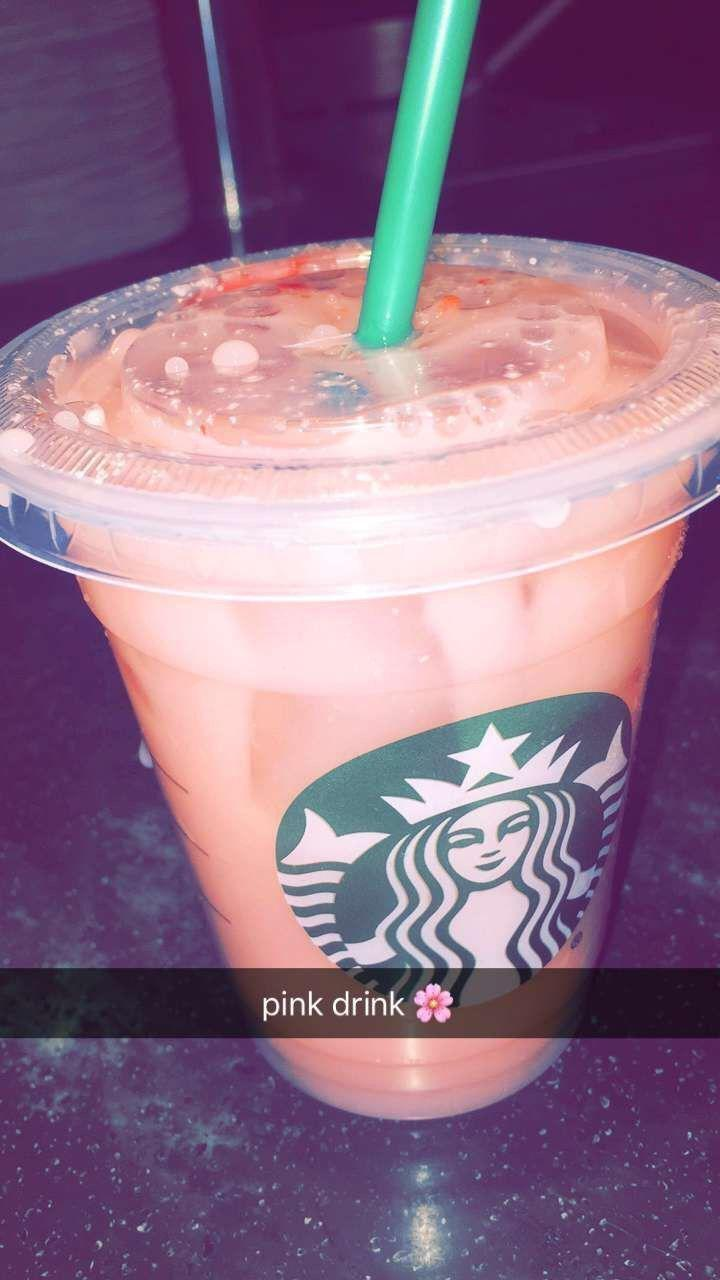cup-disposable: (1, 227, 719, 1130)
